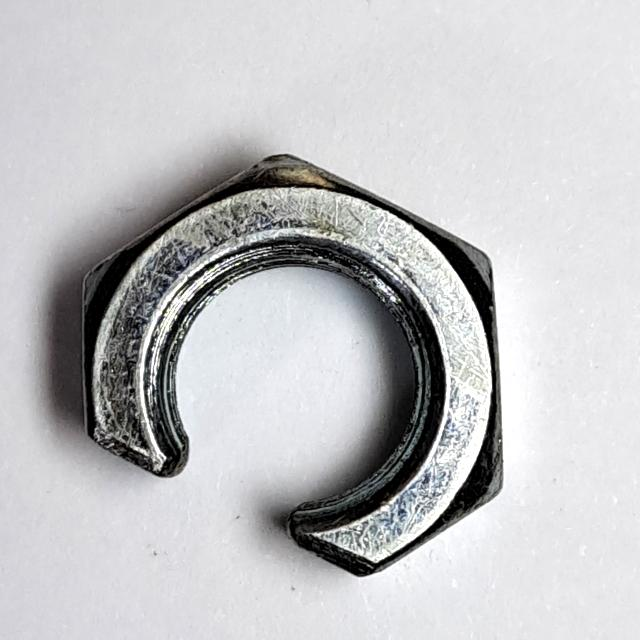Fracture: (55, 130, 522, 601)
